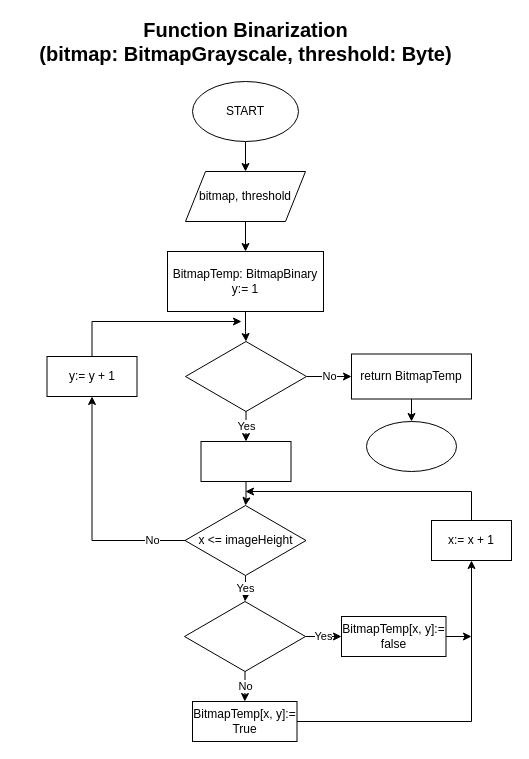
This 529x759 diagram has some shape labels left out. The shapes that lost their labels are listed below. From the top down, each one's centre as x and y in pixels, then its label:
At (x=245, y=376): "y <= imageHeight".
At (x=245, y=461): "x:= 1".
At (x=411, y=446): "END".
At (x=245, y=636): "bitmap[x, y] <= threshold".
